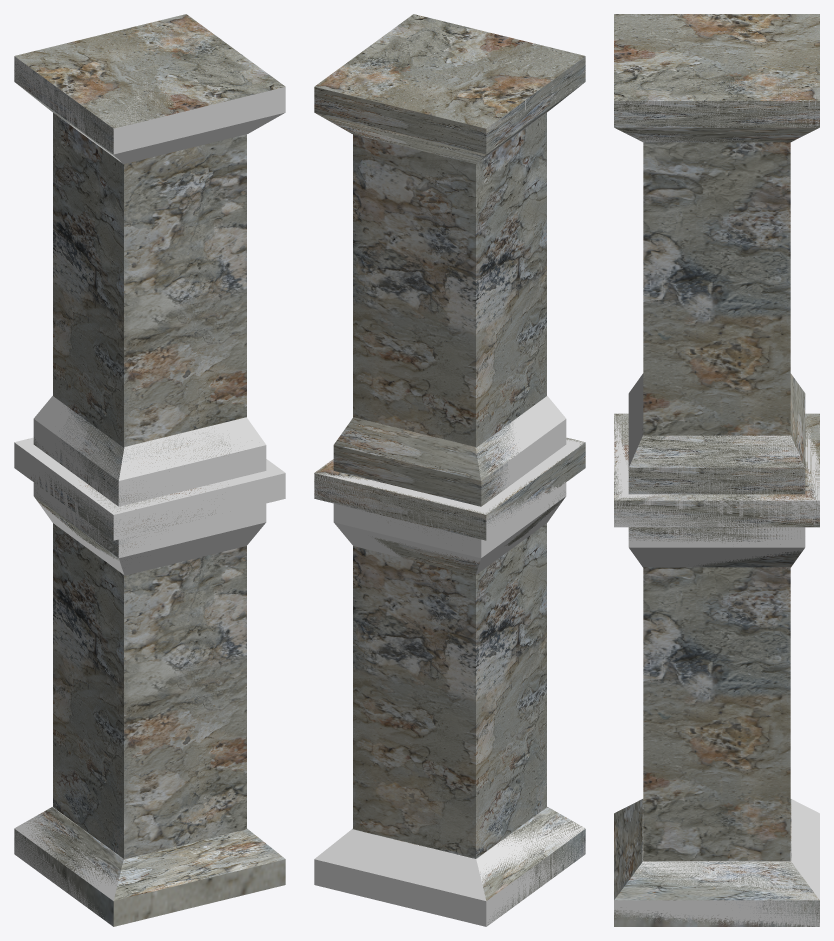
Rendered from Maze1Pillar.fbx.
The picture shows the model from 3 angles, left to right: view 1: azimuth 30°, elevation 25°; view 2: azimuth 150°, elevation 25°; view 3: azimuth 270°, elevation 25°; orthographic projection. The views are drawn at different scales.
Visible parts, largest first — view 1: Cube, Cube.010, Cube.007, Cube.001, Cube.004, Cube.003, Cube.002; view 2: Cube, Cube.001, Cube.010, Cube.004, Cube.006, Cube.002, Cube.003; view 3: Cube, Cube.010, Cube.001, Cube.006, Cube.004, Cube.007, Cube.003.
Boxes of the visible parts, x1,y1,x2,y2 form: Cube: [14, 14, 285, 926]; Cube.010: [14, 396, 285, 575]; Cube.007: [14, 56, 285, 164]; Cube.001: [14, 809, 118, 924]; Cube.004: [18, 439, 233, 532]; Cube.003: [33, 482, 117, 555]; Cube.002: [14, 807, 79, 864]; Cube: [314, 14, 585, 925]; Cube.001: [314, 813, 585, 926]; Cube.010: [368, 396, 566, 574]; Cube.004: [314, 438, 585, 537]; Cube.006: [333, 508, 557, 563]; Cube.002: [318, 846, 491, 900]; Cube.003: [333, 489, 566, 556]; Cube: [614, 14, 819, 926]; Cube.010: [614, 373, 819, 567]; Cube.001: [614, 799, 819, 926]; Cube.006: [628, 527, 805, 566]; Cube.004: [614, 413, 819, 527]; Cube.007: [614, 59, 819, 142]; Cube.003: [628, 527, 803, 546].
Size of the model in its own units: 280 by 1240 by 280.
